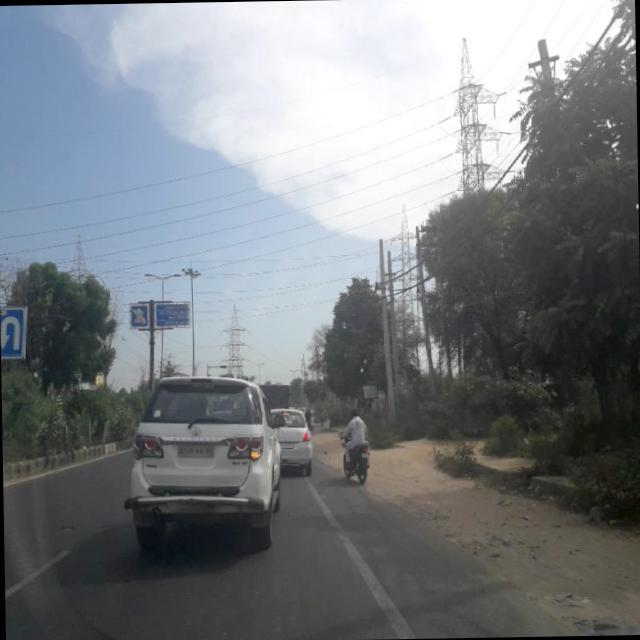crack: (126, 539, 348, 628)
